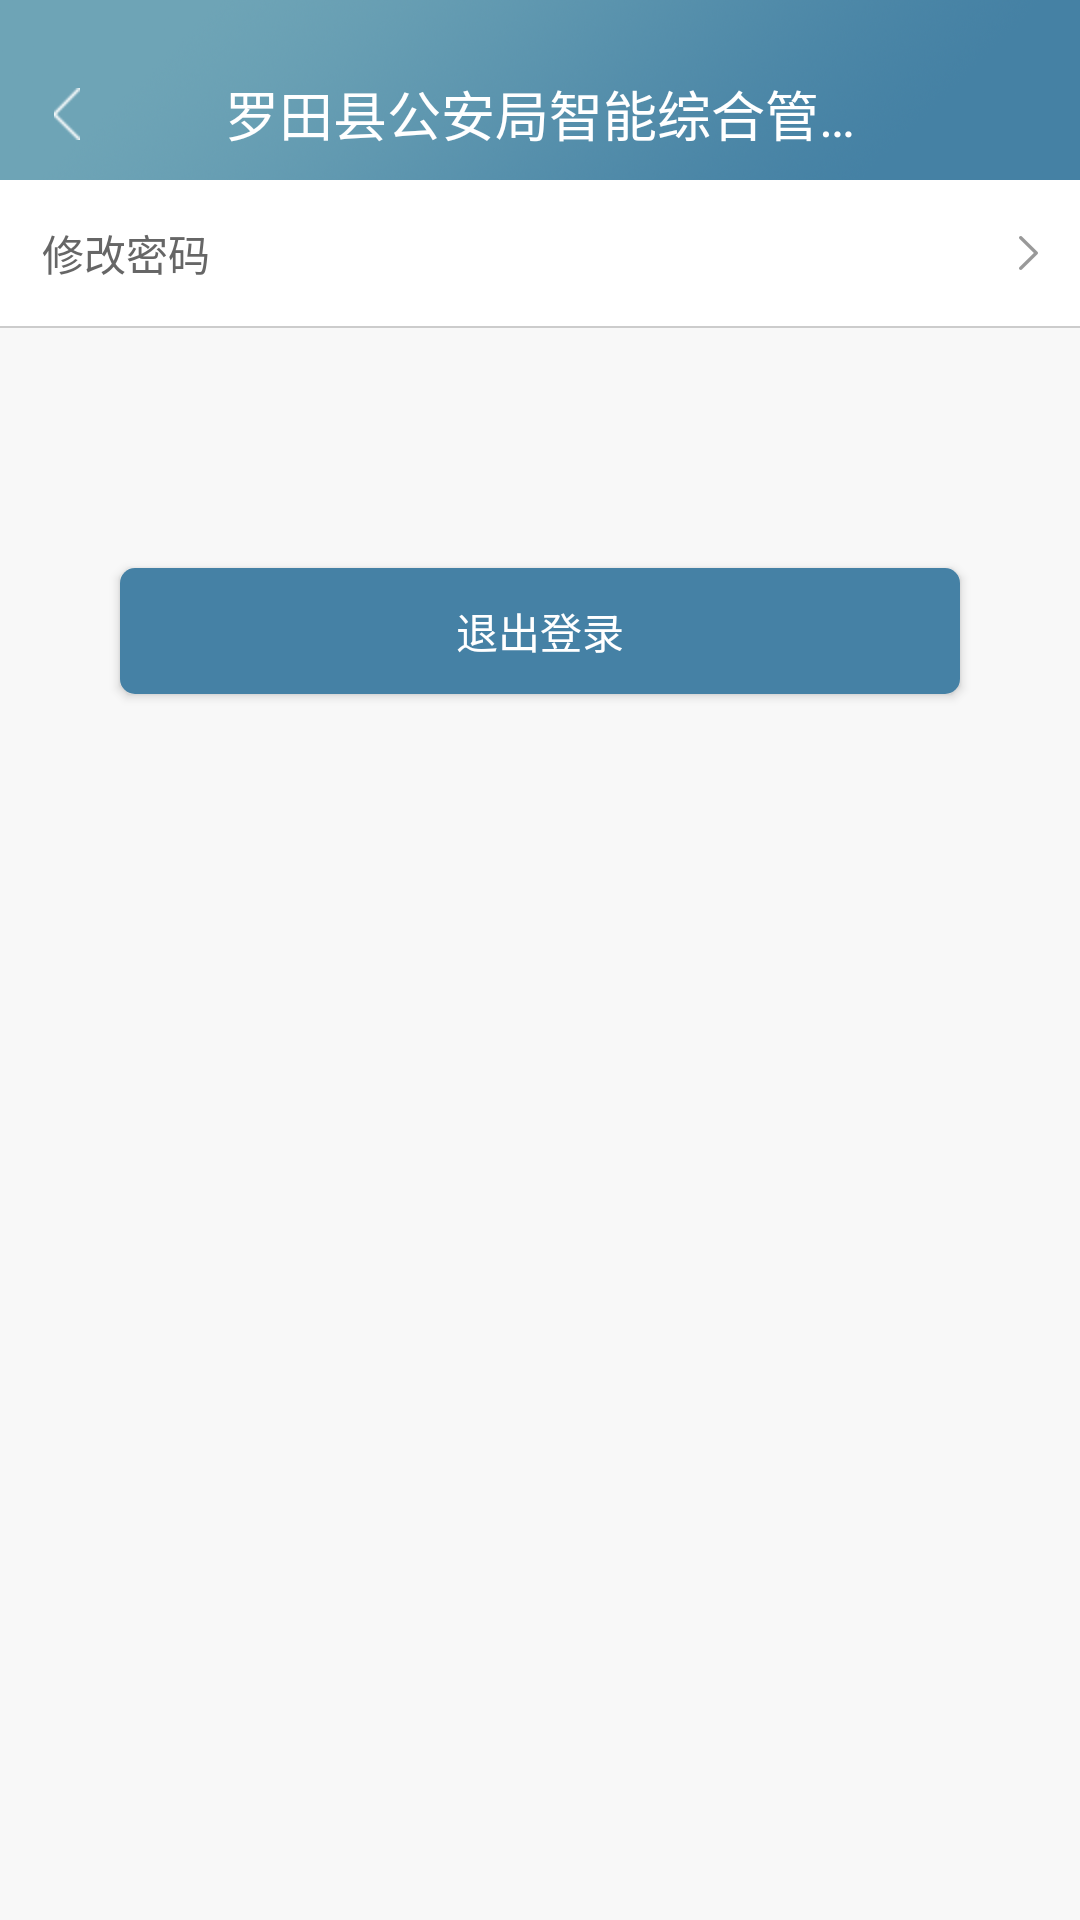

Where icons sit on this 1080*1920 app screen, as Rect(x1, y1, x2, y2):
back: Rect(54, 88, 80, 140)
